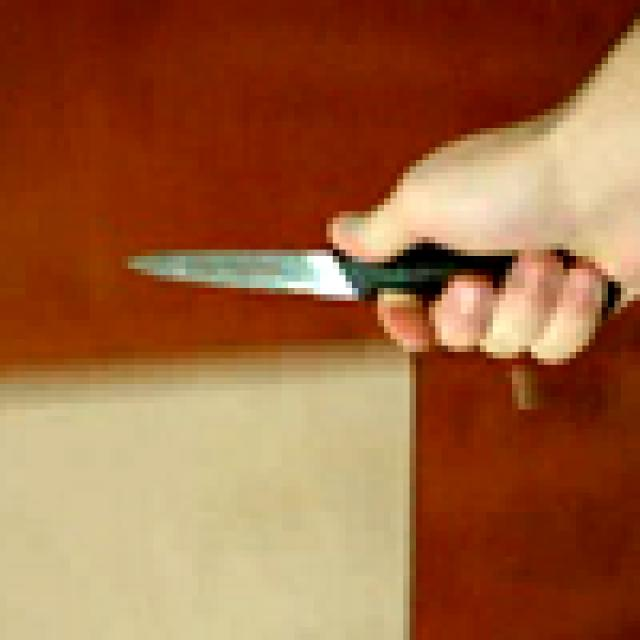Knife: (128, 230, 621, 340)
